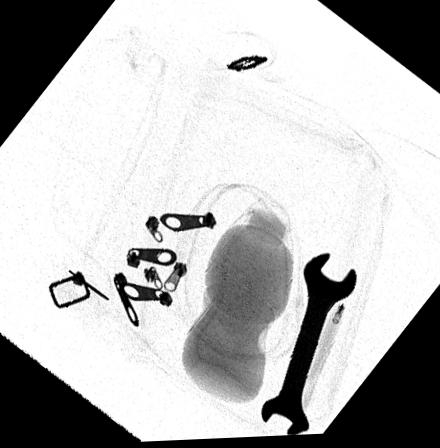Wrench: (257, 253, 358, 438)
